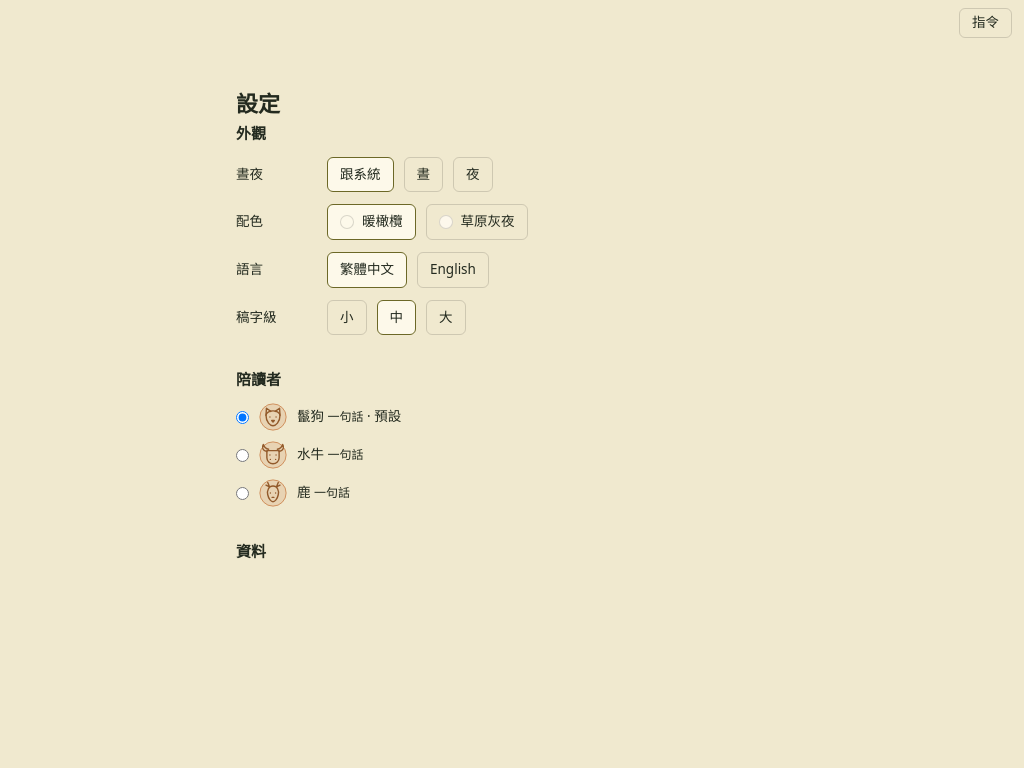
Test case: 設定頁 › 語言切換後標題變英文
The image size is (1024, 768).
Click the button "English" at (453, 270), box [417, 252, 489, 288]
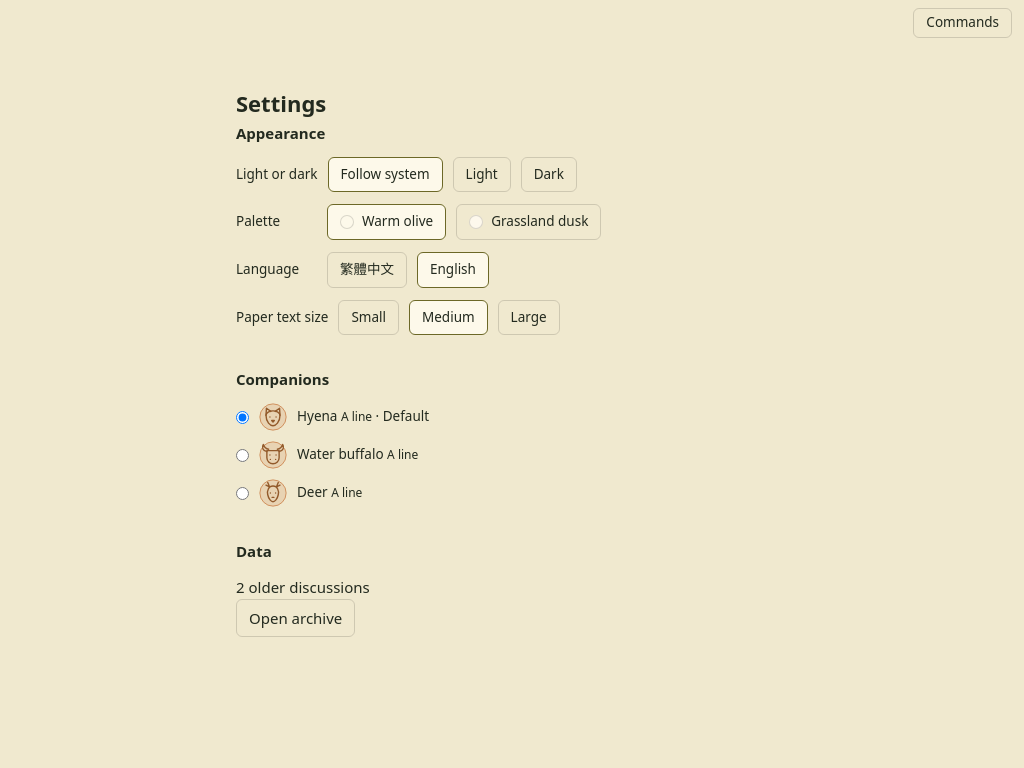
Now the heading "Settings" is shown, box [236, 88, 326, 118]
